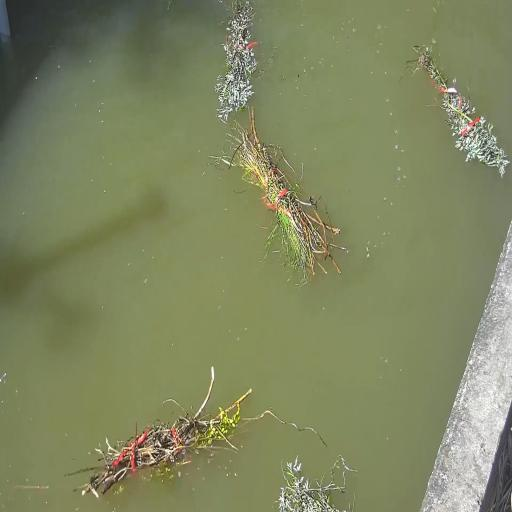twig: (72, 366, 251, 497), (220, 107, 346, 279), (407, 46, 509, 177), (215, 0, 257, 122), (277, 455, 351, 512)
